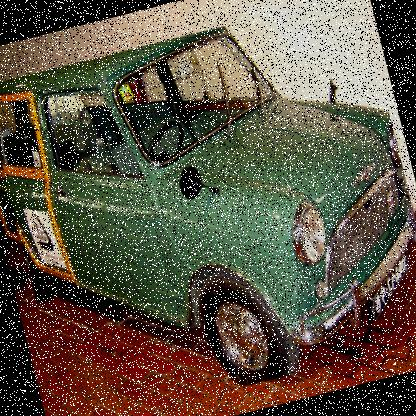Car: (0, 0, 415, 415), (0, 117, 9, 220)
